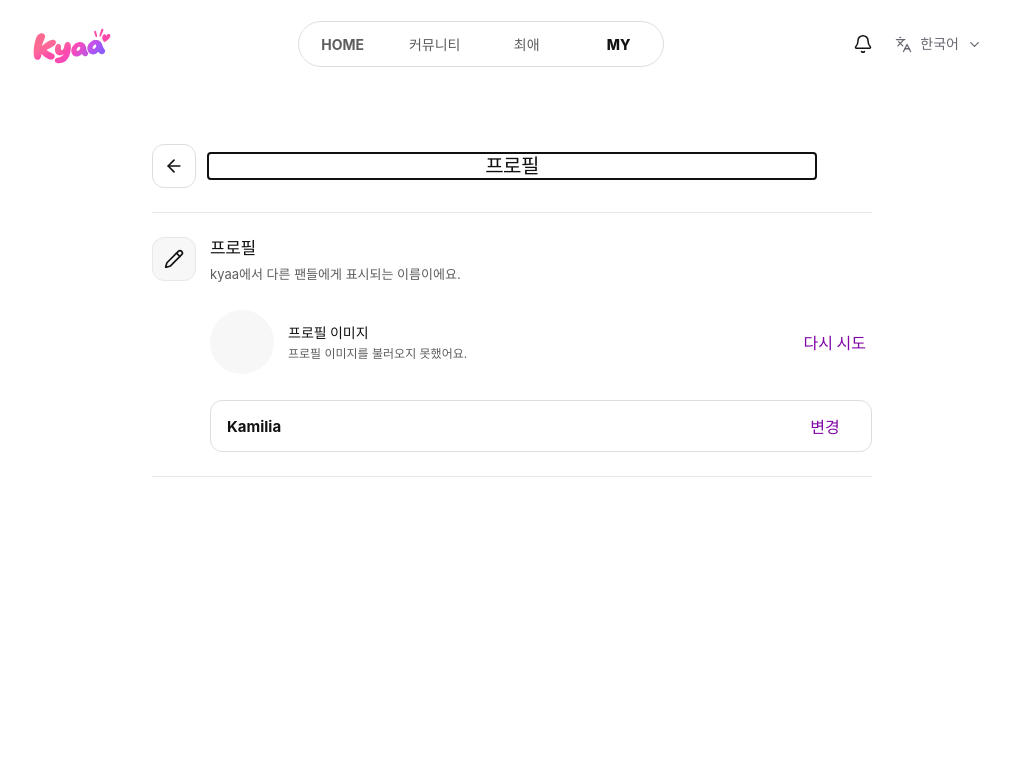
Test: FAN-020 settings › keeps nickname API errors beside the field and allows a retry
Check: the text "Kamilia" is shown, box top-left (227, 417), bottom-right (281, 436)
Step 1. Click the button "변경" → (825, 426), box top-left (795, 404), bottom-right (855, 448)
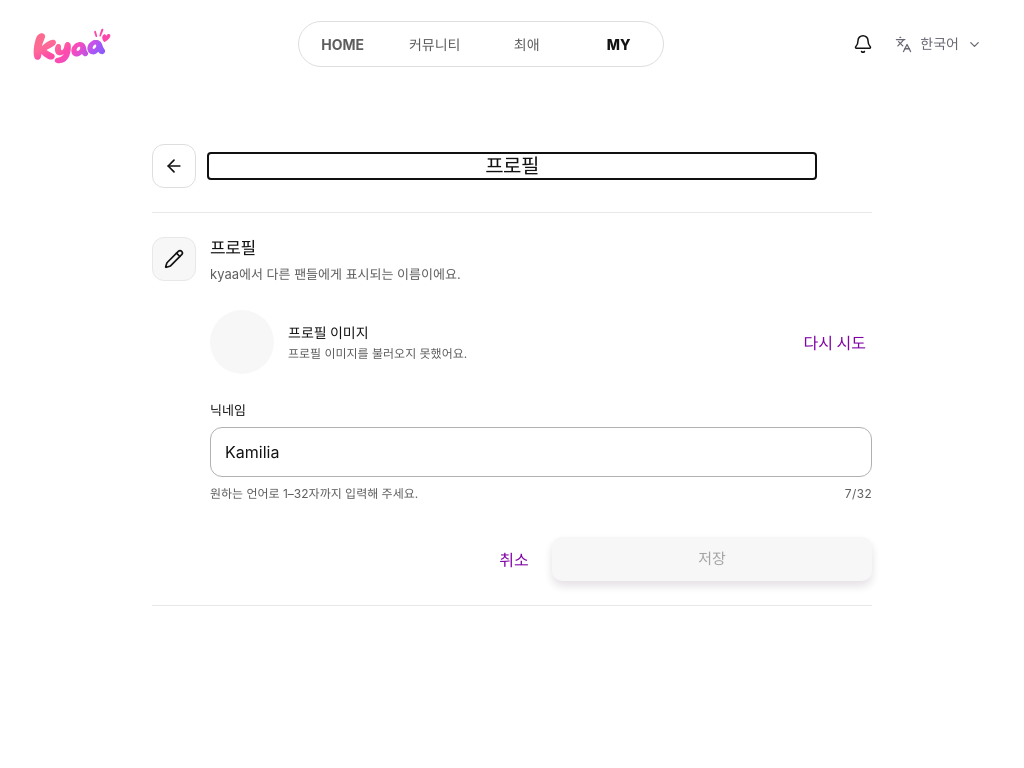
Step 2. Replace the text in the field labelled "닉네임" with "Melody" → (541, 452), box top-left (210, 427), bottom-right (872, 477)
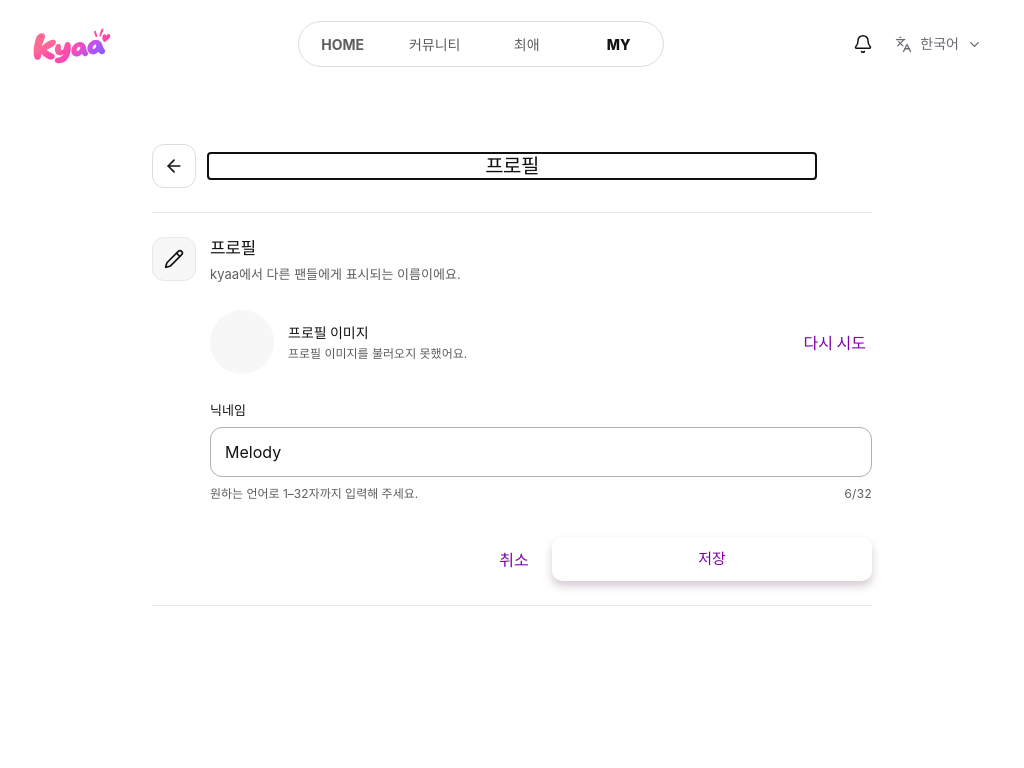
Step 3. Click the button "저장" → (712, 559), box top-left (552, 537), bottom-right (872, 581)
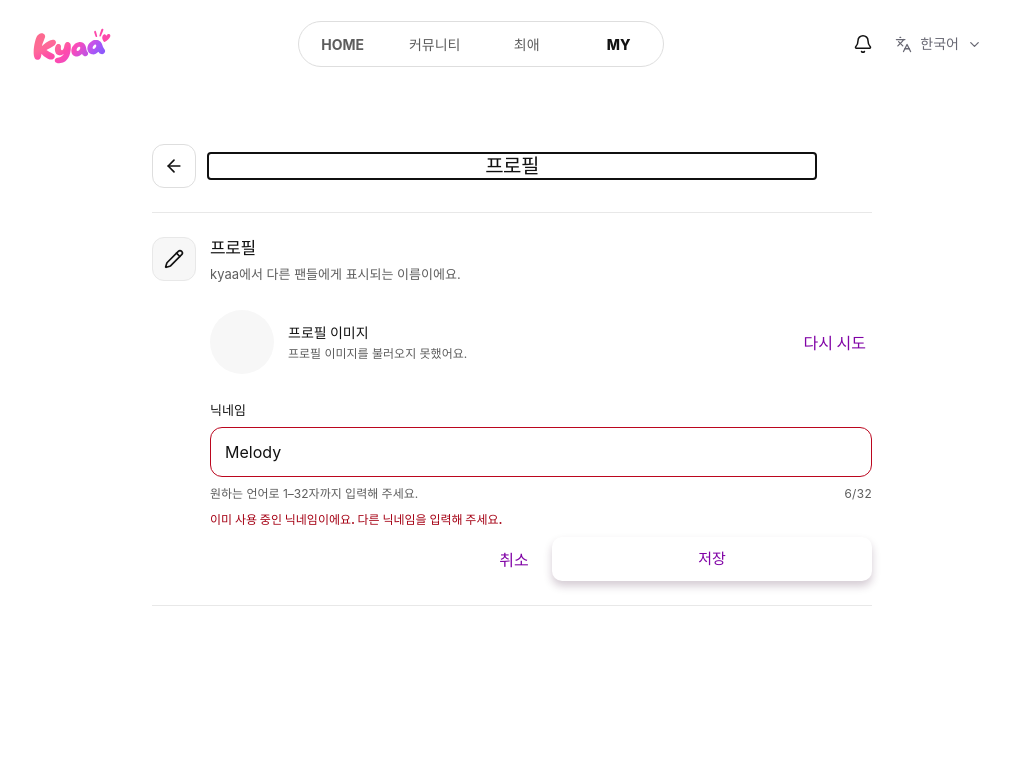
Check: the message reads "이미 사용 중인 닉네임이에요. 다른 닉네임을 입력해 주세요.", box top-left (210, 512), bottom-right (502, 527)
Step 4. Click the button "저장" → (712, 559), box top-left (552, 537), bottom-right (872, 581)
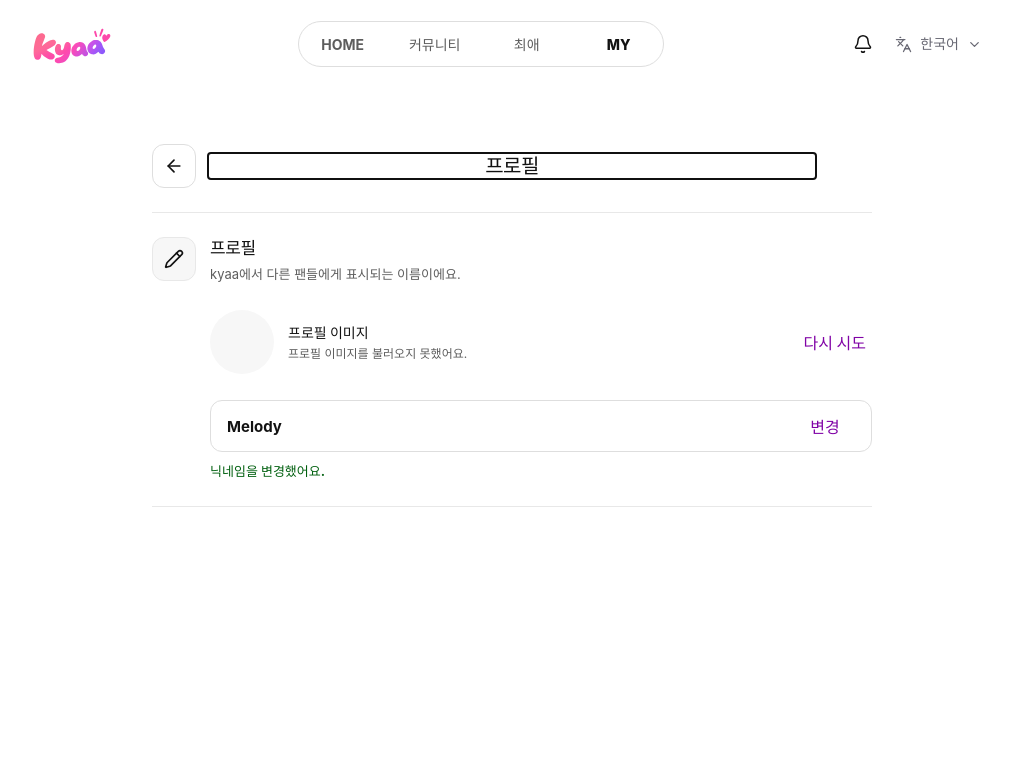
Check: the text "닉네임을 변경했어요." is shown, box top-left (210, 463), bottom-right (325, 479)
